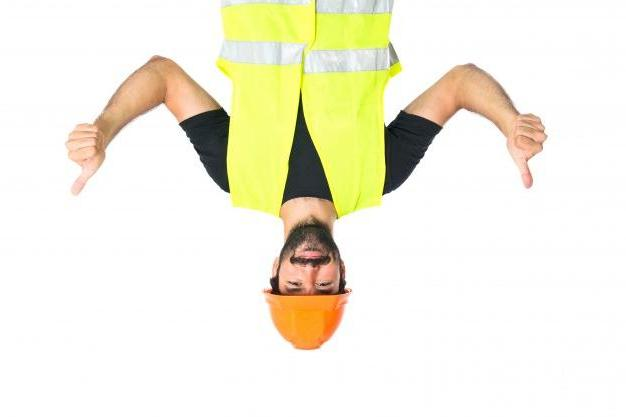thumbsdown: (512, 113, 547, 190), (65, 123, 100, 196)
